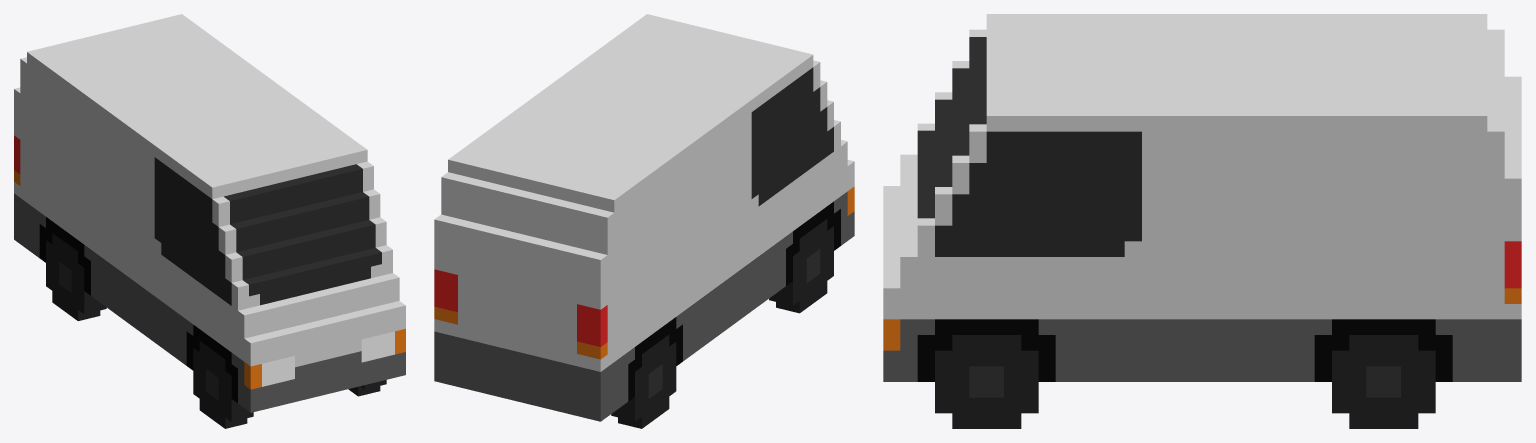
The model's file is kit-voxel-vans-van-white.glb.
3 views of the same model, side by side, from view 1: azimuth 30°, elevation 25°; view 2: azimuth 150°, elevation 25°; view 3: azimuth 270°, elevation 25° (orthographic). The views are drawn at different scales.
Visible parts, largest first — view 1: geometry_1; view 2: geometry_1; view 3: geometry_1.
Boxes of the visible parts, x1=… form: geometry_1: x1=14, y1=14, x2=405, y2=428; geometry_1: x1=434, y1=14, x2=854, y2=428; geometry_1: x1=883, y1=14, x2=1521, y2=428.
Size of the model in its own units: 1.4 by 2 by 3.7.
Materials: 1 (1 with a texture image).
